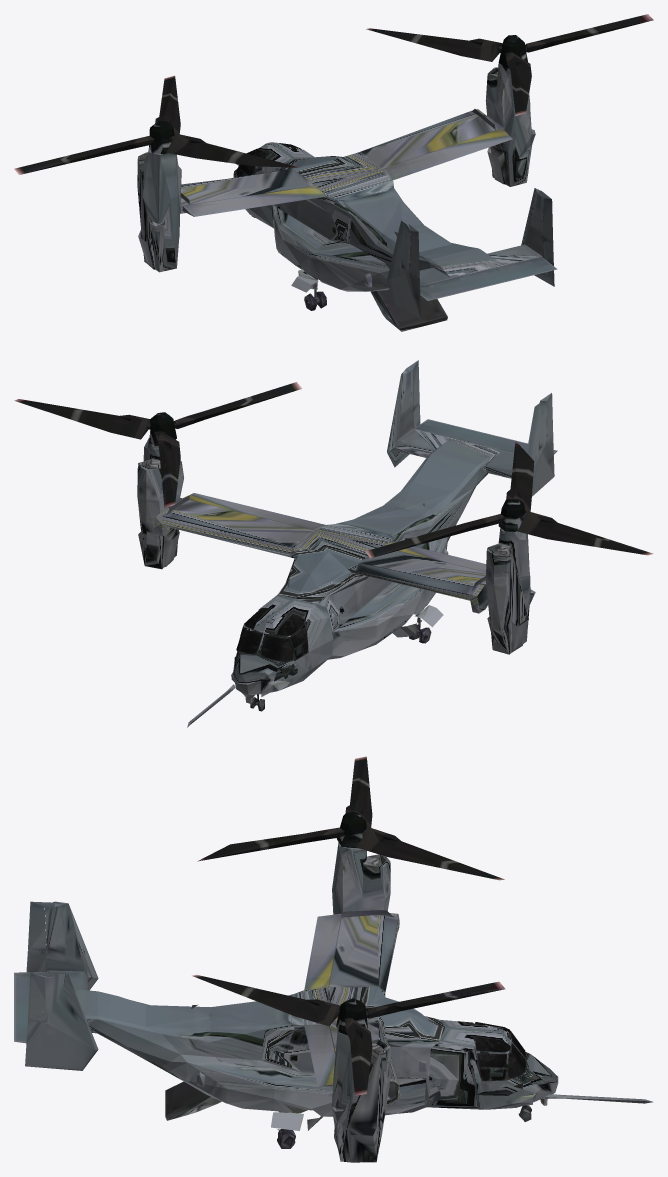
The picture shows the model from 3 angles, top to bottom: view 1: azimuth 30°, elevation 25°; view 2: azimuth 150°, elevation 25°; view 3: azimuth 270°, elevation 25°; orthographic projection. The views are drawn at different scales.
Visible parts, largest first — view 1: Object_4, Object_3; view 2: Object_4, Object_3, Object_2; view 3: Object_4, Object_3, Object_2.
Boxes of the visible parts, <box> form: Object_4: <box>180,109,557,331</box>; Object_3: <box>14,14,653,291</box>; Object_4: <box>154,360,557,727</box>; Object_3: <box>14,382,653,696</box>; Object_2: <box>234,608,344,674</box>; Object_4: <box>14,901,652,1148</box>; Object_3: <box>135,756,558,1162</box>; Object_2: <box>290,1022,526,1088</box>.
Bounding box in the file's own units: 964 × 283 × 772.
3 materials, 3 textured.
